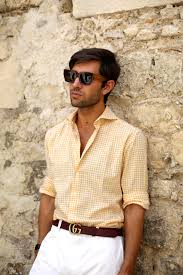F_belt: (49, 213, 130, 244)
